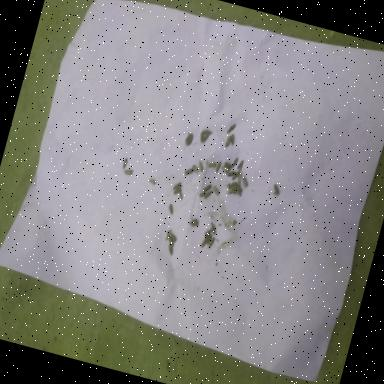pbw: (195, 160, 206, 173), (206, 236, 216, 250), (183, 167, 195, 178), (202, 182, 212, 195), (172, 181, 183, 192), (226, 123, 236, 135), (166, 235, 176, 247), (166, 203, 176, 215), (240, 176, 250, 188), (166, 243, 175, 256), (200, 236, 208, 250), (225, 170, 236, 180), (271, 184, 281, 195), (168, 232, 178, 243), (228, 181, 238, 192), (209, 224, 218, 236), (231, 170, 240, 182), (164, 229, 172, 242), (234, 188, 244, 198), (191, 164, 201, 174), (210, 186, 220, 196), (207, 160, 217, 170), (225, 134, 232, 148), (236, 160, 244, 172), (198, 130, 206, 142), (214, 162, 222, 174), (124, 168, 134, 177), (173, 187, 182, 197), (204, 190, 213, 200), (231, 157, 238, 169), (206, 234, 213, 246), (234, 184, 244, 192), (220, 166, 230, 174), (222, 162, 232, 170), (202, 133, 209, 144), (229, 134, 236, 145), (202, 129, 213, 136), (227, 188, 236, 196), (236, 172, 242, 184), (148, 178, 157, 186), (122, 158, 128, 170), (178, 192, 184, 202), (198, 192, 206, 198)
